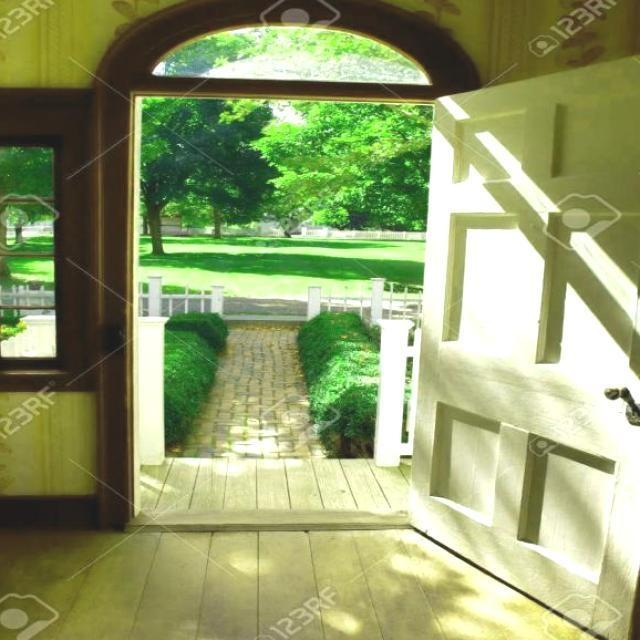door: (406, 48, 639, 639)
